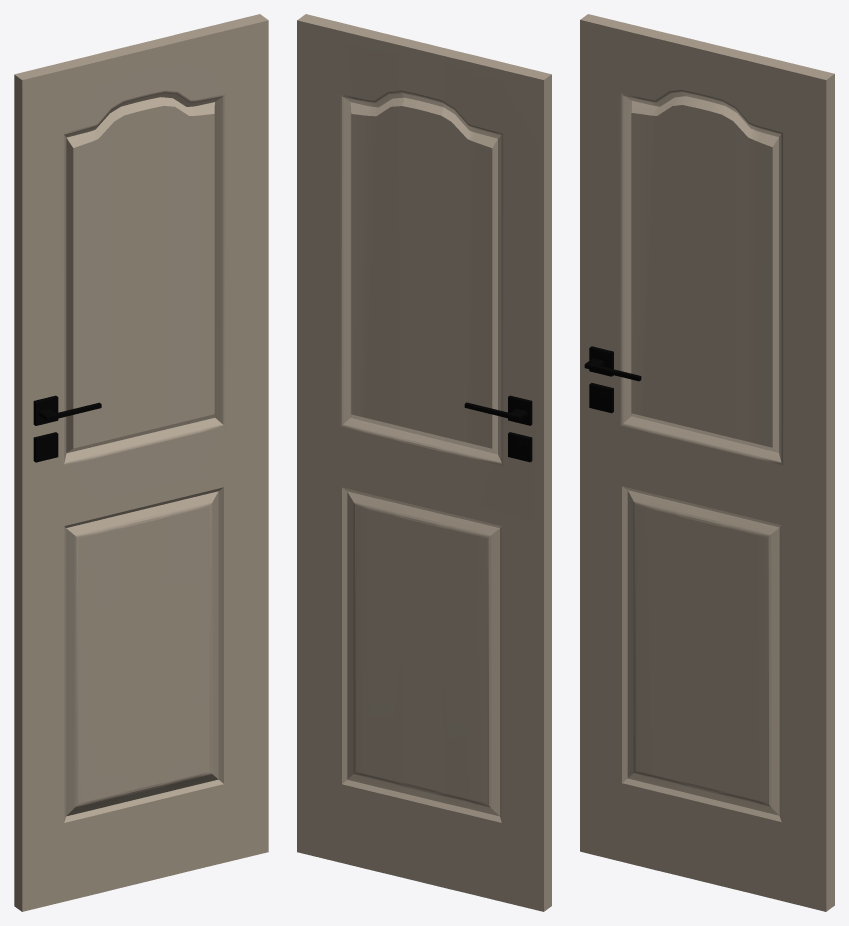
Rendered from SC_2_full2_door.glb.
3 renders of one model, left to right at view 1: azimuth 30°, elevation 25°; view 2: azimuth 150°, elevation 25°; view 3: azimuth 330°, elevation 25°, orthographic.
Visible parts, largest first — view 1: SC_2__2_door_; view 2: SC_2__2_door_; view 3: SC_2__2_door_.
Part boxes in pixels (<box>): SC_2__2_door_: <box>14,14,268,911</box>; SC_2__2_door_: <box>297,14,551,911</box>; SC_2__2_door_: <box>580,14,834,911</box>.
Bounding box in the file's own units: 0.5513 × 1.78 × 0.1089.
1 material, 1 textured.
